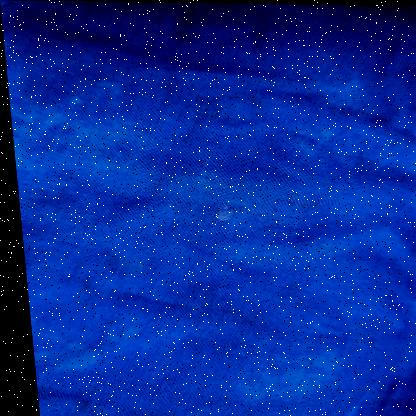spot: (201, 202, 239, 224)
